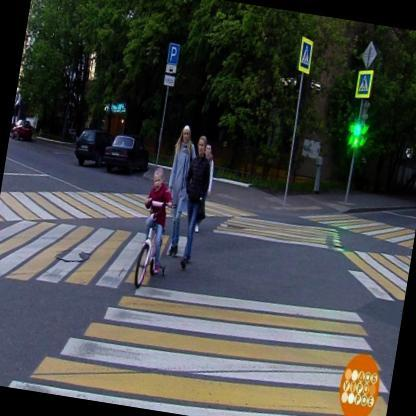road_sign: (298, 37, 314, 74), (356, 70, 373, 98), (168, 44, 180, 64), (164, 75, 176, 86), (166, 65, 177, 73)
